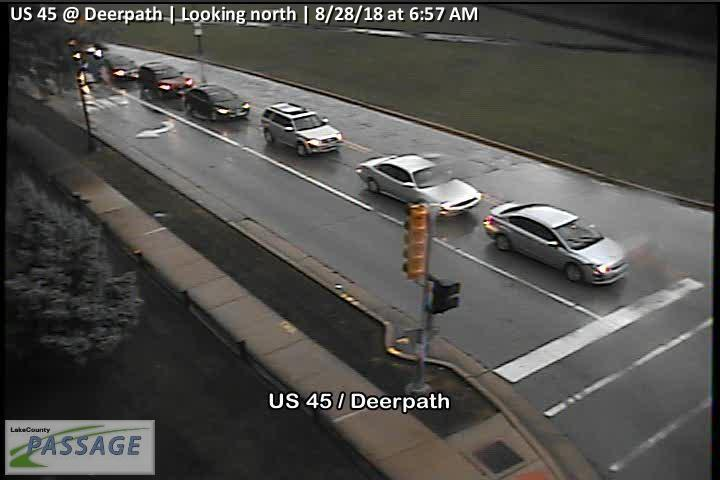SUV: (258, 102, 344, 159), (139, 60, 195, 100), (104, 52, 138, 83)
Sedan: (483, 198, 634, 289), (355, 151, 483, 221), (184, 83, 251, 123)
